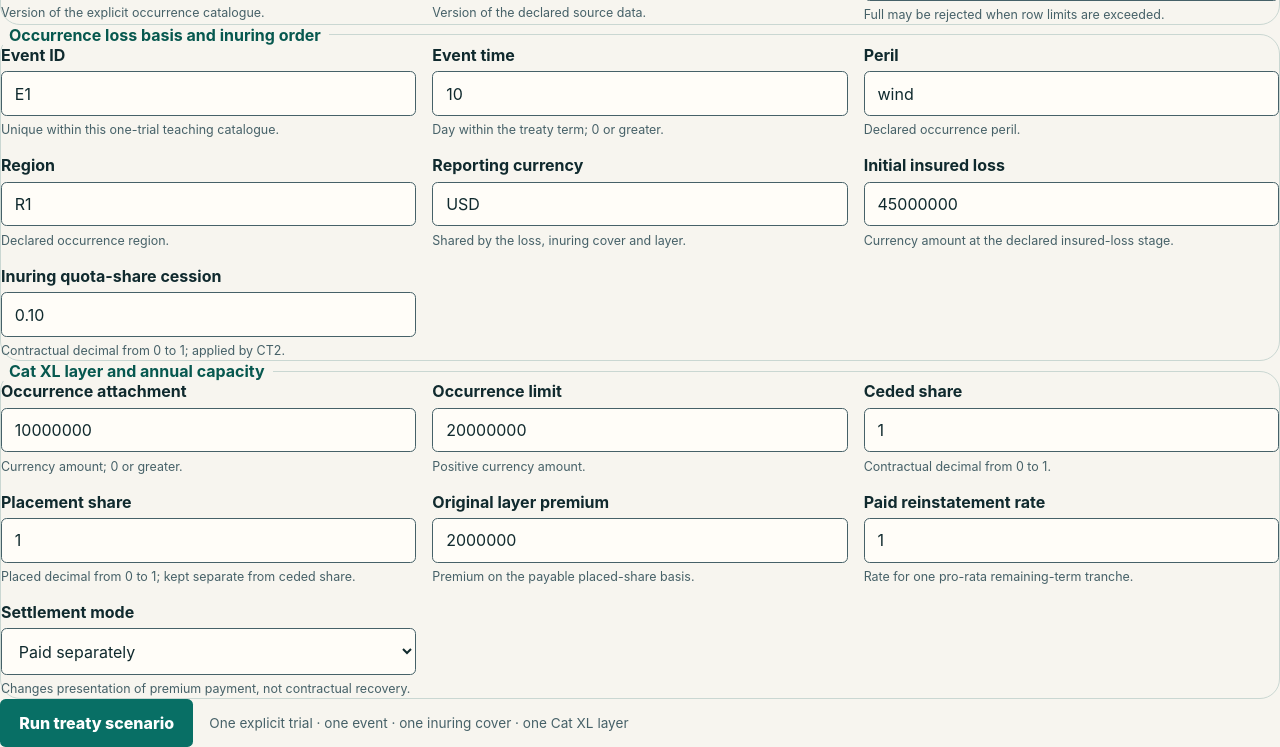
Test: Explore Treaty workflow › builds and submits a complete catalogue request
(page scrolled)
Step 1. Click the button "Run treaty scenario" → (97, 723), box [0,699,193,746]
(page scrolled)
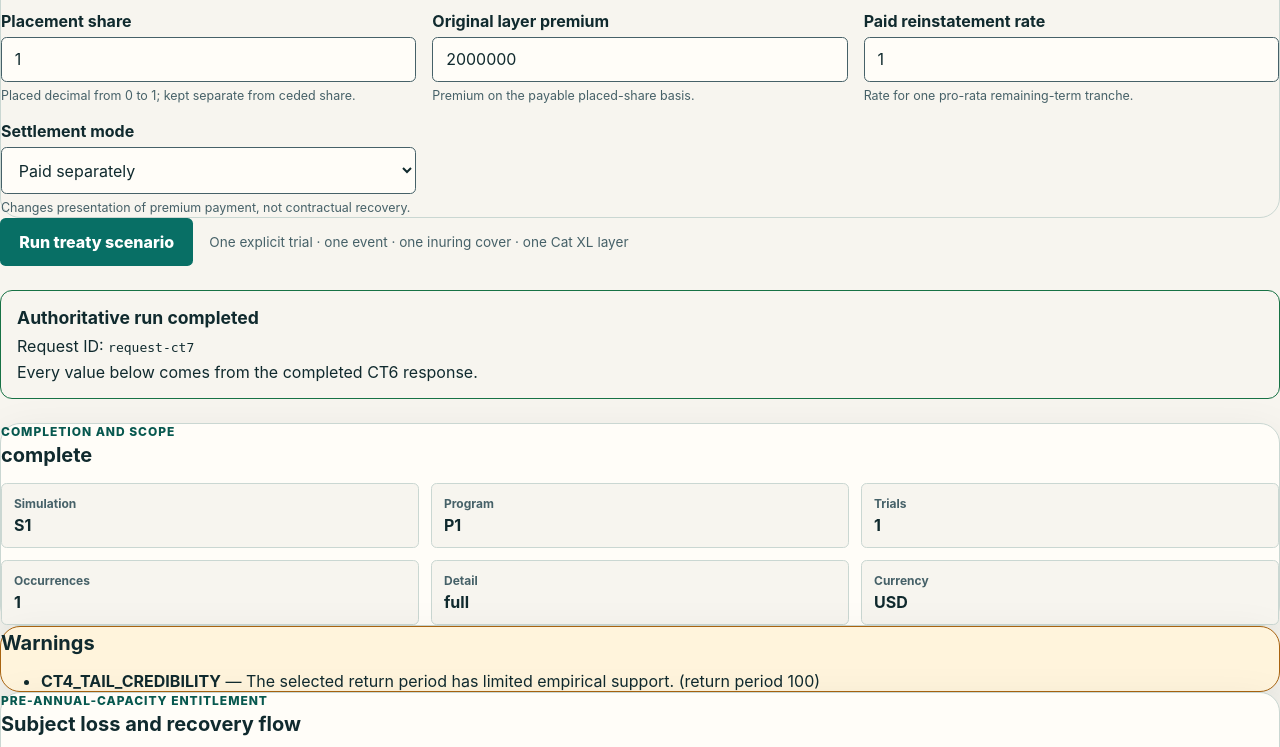
Expected: the heading "Authoritative run completed" is shown, [17,307,259,328]
Expected: the text "request-ct7" is shown, [108,340,194,355]
